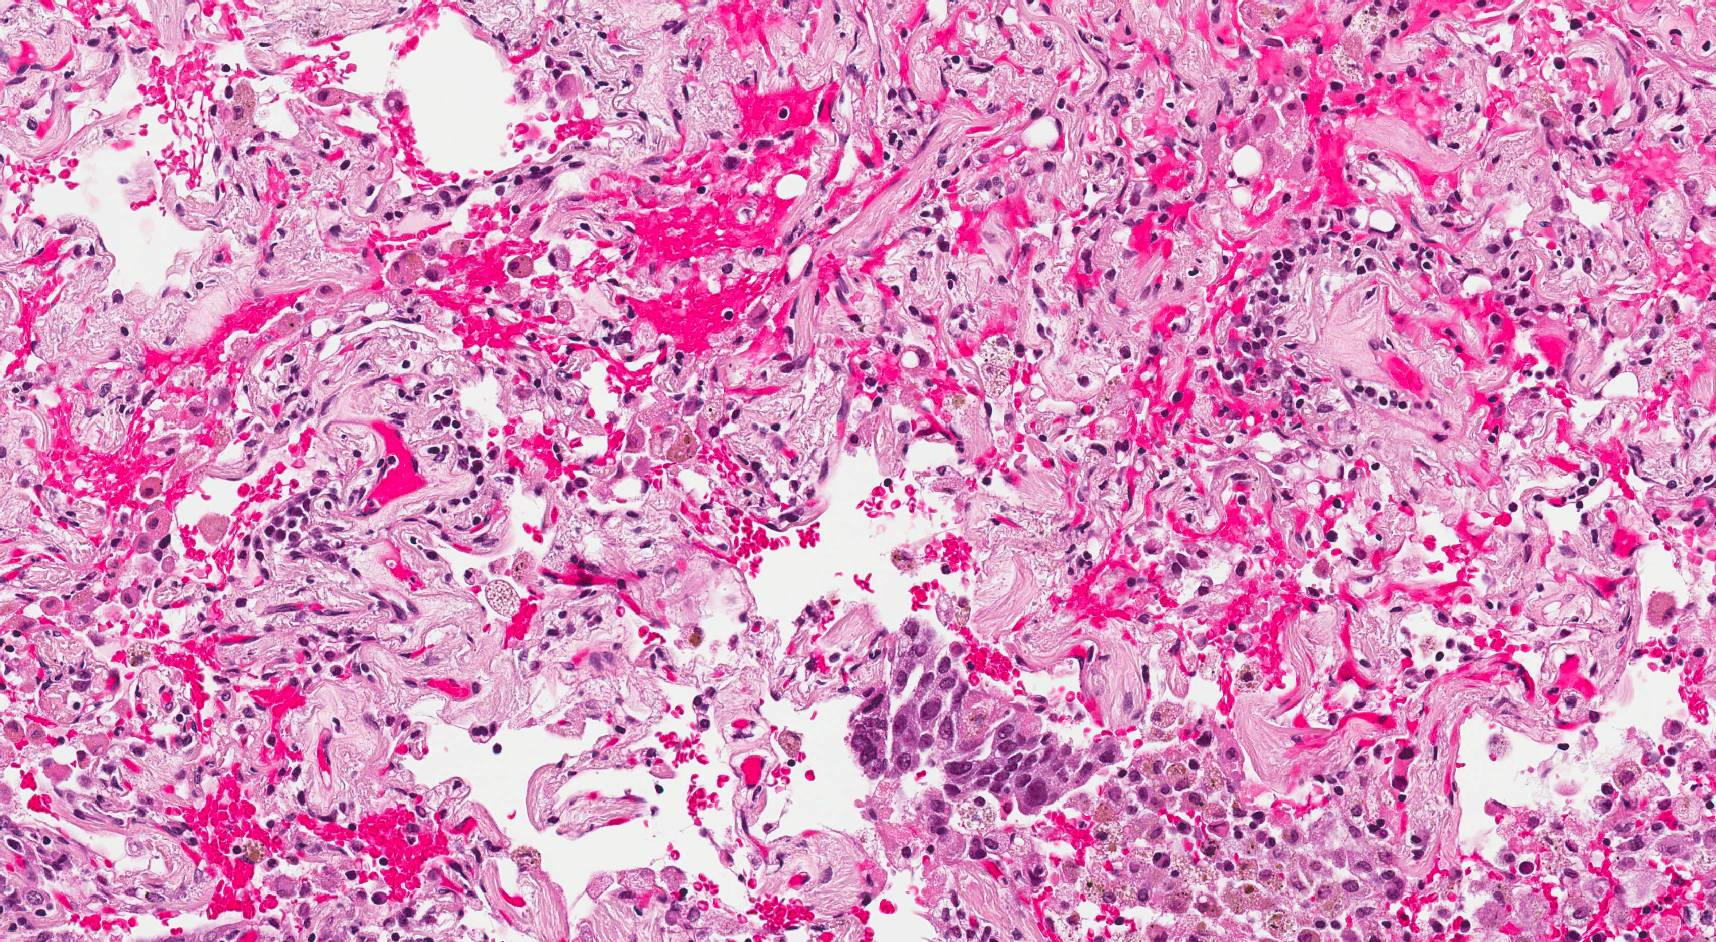stas: (844, 616, 1125, 817)
